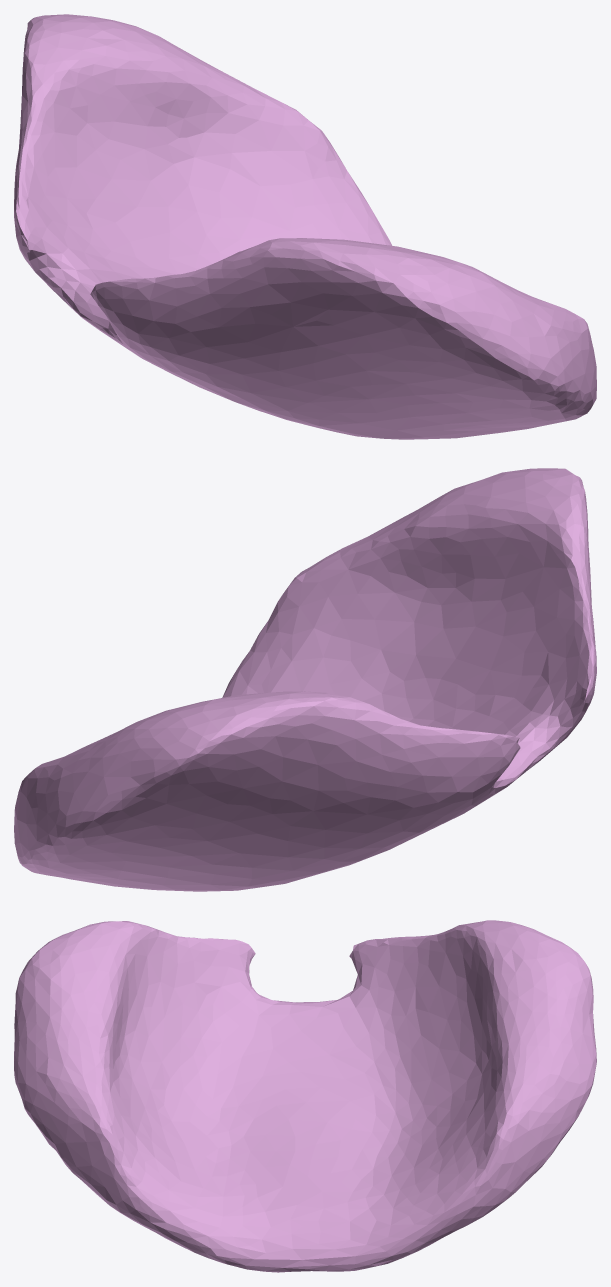
The picture shows the model from 3 angles, top to bottom: view 1: azimuth 30°, elevation 25°; view 2: azimuth 150°, elevation 25°; view 3: azimuth 270°, elevation 25°; orthographic projection. The views are drawn at different scales.
Visible parts, largest first — view 1: 26.obj; view 2: 26.obj; view 3: 26.obj.
Boxes of the visible parts, x1,y1,x2,y2 form: 26.obj: (14,14,596,439); 26.obj: (14,468,596,891); 26.obj: (14,920,596,1272).
Bounding box in the file's own units: 1862 × 1316 × 2913.
